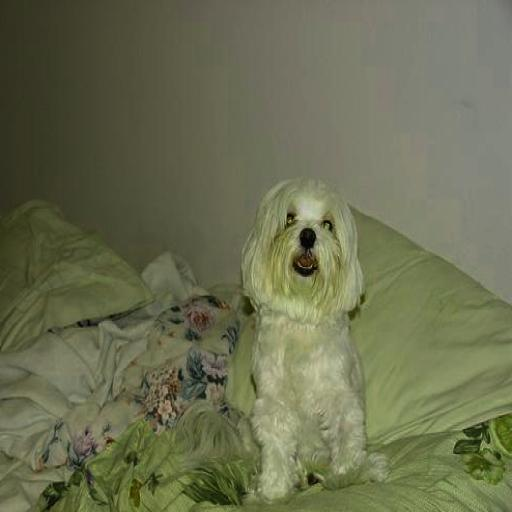dog_face: (244, 183, 355, 303)
